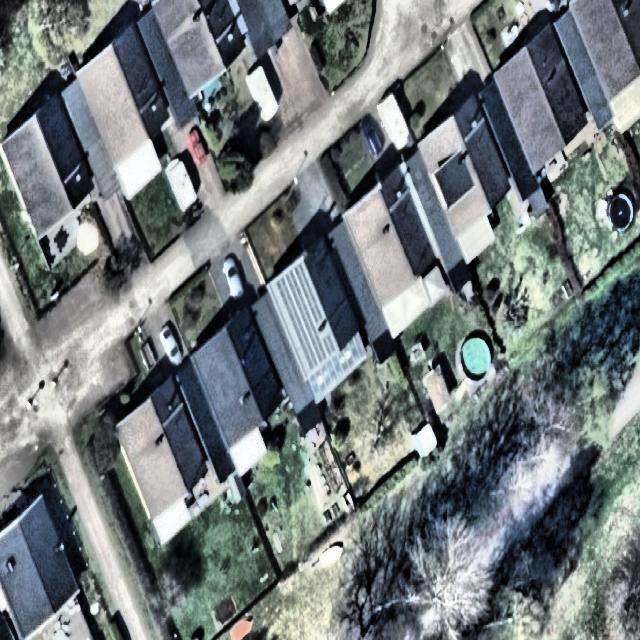roof_pv: (288, 314, 336, 372), (275, 264, 324, 314)
